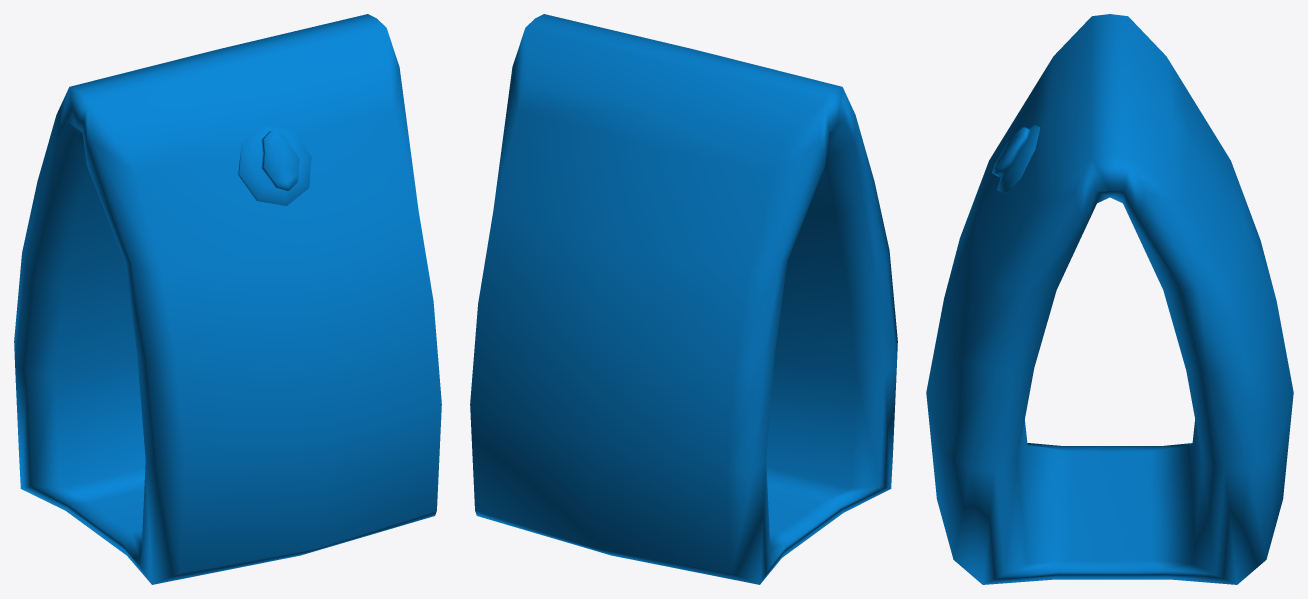
The model's file is Child_Buoy.fbx.
The picture shows the model from 3 angles, left to right: view 1: azimuth 30°, elevation 25°; view 2: azimuth 150°, elevation 25°; view 3: azimuth 270°, elevation 25°; orthographic projection. The views are drawn at different scales.
Parts seen in each view (by area): view 1: Child_Buoy; view 2: Child_Buoy; view 3: Child_Buoy.
Boxes of the visible parts, box(x1,y1,x2,y2) form: Child_Buoy: box(14, 14, 441, 584); Child_Buoy: box(470, 14, 897, 584); Child_Buoy: box(926, 14, 1293, 584).
Size of the model in its own units: 138 by 189 by 145.
